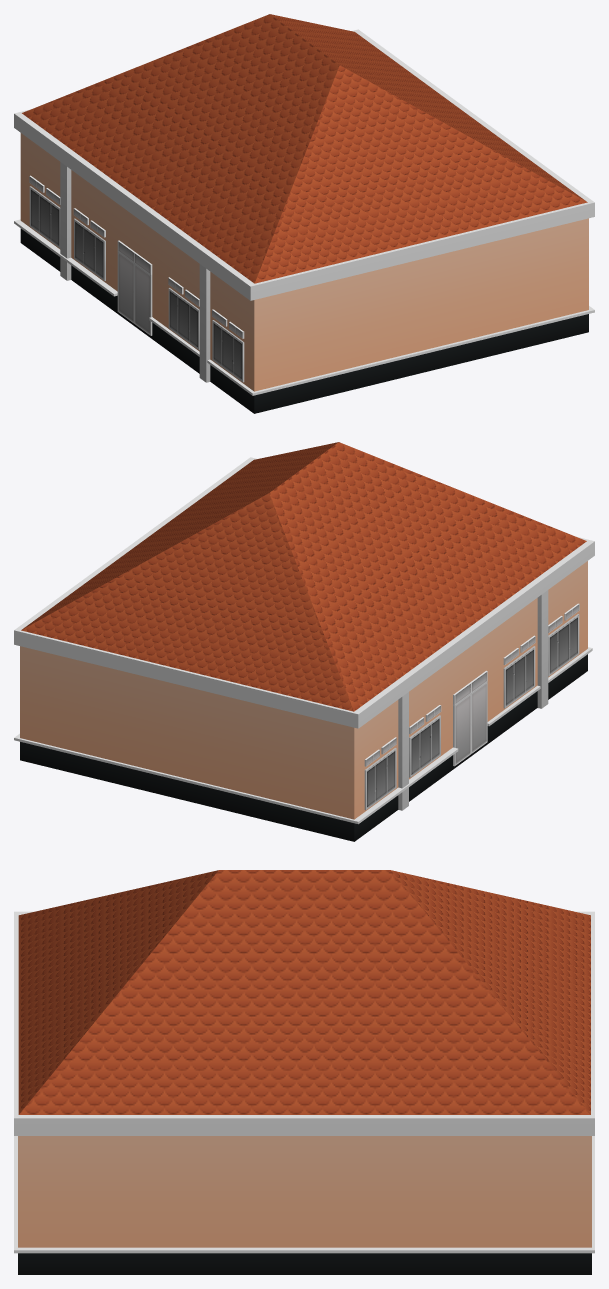
File: Polres2.fbx
The picture shows the model from 3 angles, top to bottom: view 1: azimuth 30°, elevation 25°; view 2: azimuth 150°, elevation 25°; view 3: azimuth 270°, elevation 25°; orthographic projection. The views are drawn at different scales.
Visible parts, largest first — view 1: PolresBody3_LOD0, PolresBody4_LOD0; view 2: PolresBody3_LOD0, PolresBody4_LOD0; view 3: PolresBody3_LOD0.
Boxes of the visible parts, box(x1,y1,x2,y2) form: PolresBody3_LOD0: box(14, 14, 594, 413); PolresBody4_LOD0: box(29, 175, 244, 382); PolresBody3_LOD0: box(14, 442, 594, 841); PolresBody4_LOD0: box(364, 603, 579, 810); PolresBody3_LOD0: box(14, 870, 594, 1274).
Size of what is drawn, in the model's own units: 1642 by 1130 by 1953.
